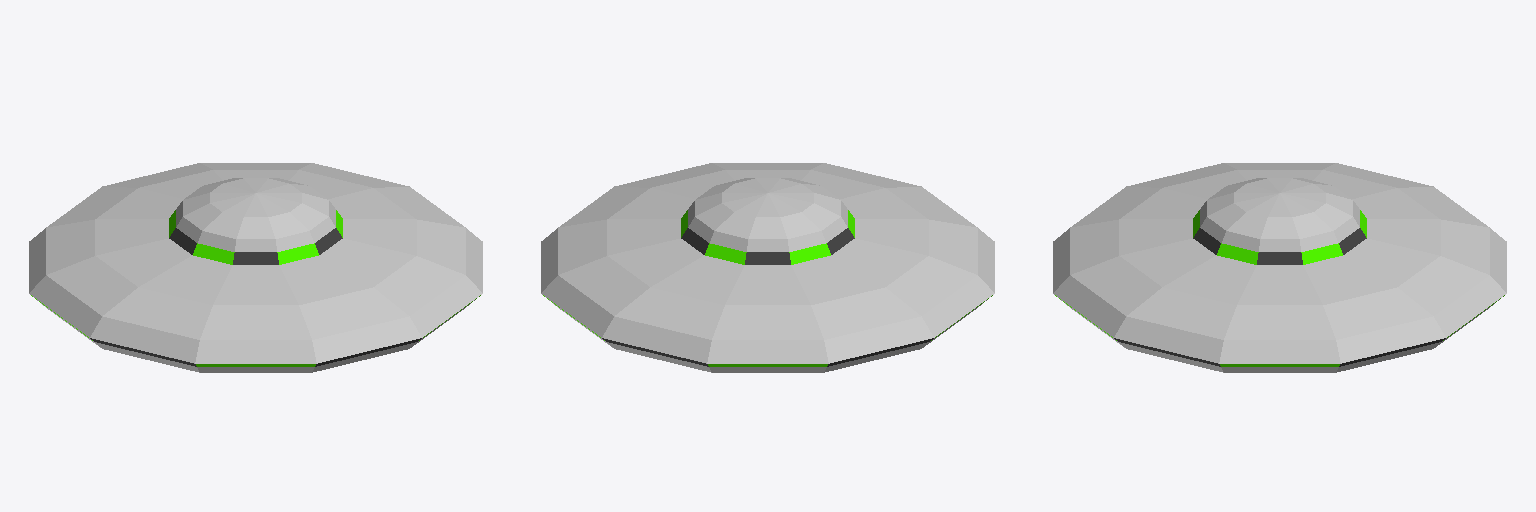
File: Low_Poly_UFO_001.obj
The picture shows the model from 3 angles: view 1: azimuth 30°, elevation 25°; view 2: azimuth 150°, elevation 25°; view 3: azimuth 270°, elevation 25°; orthographic projection.
Parts seen in each view (by area): view 1: Low_Poly_UFO_001_Sphere; view 2: Low_Poly_UFO_001_Sphere; view 3: Low_Poly_UFO_001_Sphere.
Part boxes in pixels (left/top/right/bottom): Low_Poly_UFO_001_Sphere: left=29, top=163, right=482, bottom=372; Low_Poly_UFO_001_Sphere: left=541, top=163, right=994, bottom=372; Low_Poly_UFO_001_Sphere: left=1053, top=163, right=1506, bottom=372.
Bounding box in the file's own units: 5.8 × 1.77 × 5.8.